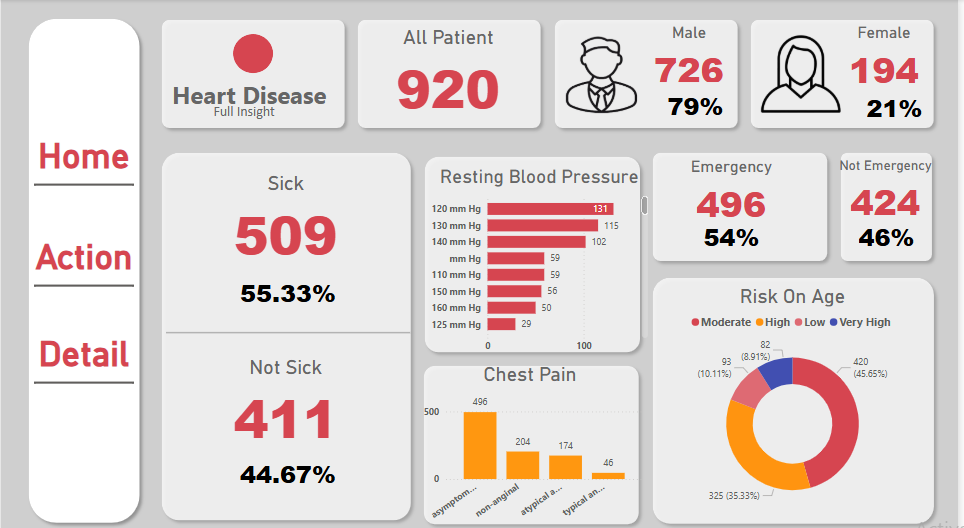

The dashboard page shown, as its layout file describes it:
{"tool":"powerbi","page":{"name":"Home","canvas":[1280,720],"ordinal":0},"visuals":[{"type":"shape","box":[27.7,18,166.2,692.6],"z":0},{"type":"shape","box":[205.7,18.6,262.9,162.9],"z":1000},{"type":"shape","box":[468.6,18.6,262.9,162.9],"z":2000},{"type":"shape","box":[731.4,18.6,262.9,162.9],"z":3000},{"type":"shape","box":[994.3,18.6,262.9,162.9],"z":4000},{"type":"shape","box":[205.7,197.1,351.4,510],"z":5000},{"type":"shape","box":[558.3,202.3,306.1,279.8],"z":6000},{"type":"shape","box":[557.1,481.4,305.7,230],"z":7000},{"type":"shape","box":[862.9,197.1,251.4,162.9],"z":8000},{"type":"shape","box":[1114.3,197.1,140,162.9],"z":9000},{"type":"shape","box":[862.9,364.3,394.3,347.1],"z":10000},{"type":"textbox","box":[220,100,234.3,62.9],"z":11000},{"type":"textbox","box":[220,134.3,211.4,62.9],"z":12000},{"type":"shape","box":[310,47.5,53.8,52.5],"z":13000},{"type":"cardVisual","title":"All Patient","fields":{"Data":["measured Data.All Patient"]},"box":[494.3,35.2,209.8,131],"z":14000},{"type":"cardVisual","title":"Male","fields":{"Data":["measured Data.Male"]},"box":[863.2,32.4,115.5,84.5],"z":15000},{"type":"cardVisual","fields":{"Data":["measured Data.% male"]},"box":[871.3,113.6,116.4,62.3],"z":16000},{"type":"cardVisual","title":"Female","fields":{"Data":["measured Data.Female"]},"box":[1123.9,32.4,115.3,98.5],"z":17000},{"type":"cardVisual","fields":{"Data":["measured Data.% female"]},"box":[1137.3,116.4,116.4,62.3],"z":18000},{"type":"image","box":[731.4,34.6,139.9,134.4],"z":19000},{"type":"image","box":[994.6,23.5,152.4,152.4],"z":20000},{"type":"cardVisual","title":"Sick","fields":{"Data":["measured Data.Sick"]},"box":[236.9,230,288.1,130.2],"z":21000},{"type":"cardVisual","fields":{"Data":["measured Data.% Sick"]},"box":[297.8,364.3,171.8,62.3],"z":22000},{"type":"cardVisual","title":"Not Sick","fields":{"Data":["measured Data.Not Sick"]},"box":[236.9,476.5,288.1,130.2],"z":23000},{"type":"cardVisual","fields":{"Data":["measured Data.% Not Sick"]},"box":[297.8,606.8,171.8,62.3],"z":24000},{"type":"shape","box":[220.3,441.9,326.9,9.7],"z":25000},{"type":"columnChart","title":"Chest Pain ","fields":{"Category":["heart_disease_uci.cp"],"Y":["measured Data.All Patient"]},"box":[551.3,486.2,313.1,221.6],"z":26000},{"type":"barChart","title":"Resting Blood Pressure","fields":{"Category":["heart_disease_uci.Resting Blood Pressure"],"Y":["measured Data.All Patient"]},"box":[570.7,221.6,300.6,260.4],"z":27000},{"type":"cardVisual","title":"Emergency","fields":{"Data":["measured Data.in danger"]},"box":[881,211.9,193.9,98.4],"z":28000},{"type":"cardVisual","fields":{"Data":["measured Data.% in danger"]},"box":[899,289.5,156.5,62.3],"z":29000},{"type":"cardVisual","title":"Not Emergency","fields":{"Data":["measured Data.Not in danger"]},"box":[1086.1,211.9,193.9,98.4],"z":30000},{"type":"cardVisual","fields":{"Data":["measured Data.% not in danger"]},"box":[1130.4,289.5,108.1,62.3],"z":31000},{"type":"donutChart","title":" Risk On Age","fields":{"Category":["heart_disease_uci.Risk On Age"],"Y":["measured Data.All Patient"]},"box":[882.4,381,354.6,313.1],"z":32000},{"type":"actionButton","title":"Home","box":[44.2,182,133.8,68.3],"z":32001},{"type":"actionButton","title":"Action","box":[44.2,317.2,133.8,68.3],"z":32002},{"type":"actionButton","title":"Detail","box":[44.2,447,133.8,68.3],"z":32003}]}

Visuals, with their boxes in screenshot pixels (x1, y1, x2, y2), scaled from the page's 1280x720 canvas onto the 964x528 screenshot:
shape: bbox(21, 13, 146, 521)
shape: bbox(155, 14, 353, 133)
shape: bbox(353, 14, 551, 133)
shape: bbox(551, 14, 749, 133)
shape: bbox(749, 14, 947, 133)
shape: bbox(155, 145, 420, 519)
shape: bbox(420, 148, 651, 354)
shape: bbox(420, 353, 650, 522)
shape: bbox(650, 145, 839, 264)
shape: bbox(839, 145, 945, 264)
shape: bbox(650, 267, 947, 522)
textbox: bbox(166, 73, 342, 119)
textbox: bbox(166, 98, 325, 145)
shape: bbox(233, 35, 274, 73)
"All Patient" cardVisual: bbox(372, 26, 530, 122)
"Male" cardVisual: bbox(650, 24, 737, 86)
cardVisual - measured Data.% male: bbox(656, 83, 744, 129)
"Female" cardVisual: bbox(846, 24, 933, 96)
cardVisual - measured Data.% female: bbox(857, 85, 944, 131)
image: bbox(551, 25, 656, 124)
image: bbox(749, 17, 864, 129)
"Sick" cardVisual: bbox(178, 169, 395, 264)
cardVisual - measured Data.% Sick: bbox(224, 267, 354, 313)
"Not Sick" cardVisual: bbox(178, 349, 395, 445)
cardVisual - measured Data.% Not Sick: bbox(224, 445, 354, 491)
shape: bbox(166, 324, 412, 331)
"Chest Pain " columnChart: bbox(415, 357, 651, 519)
"Resting Blood Pressure" barChart: bbox(430, 163, 656, 353)
"Emergency" cardVisual: bbox(664, 155, 810, 228)
cardVisual - measured Data.% in danger: bbox(677, 212, 795, 258)
"Not Emergency" cardVisual: bbox(818, 155, 963, 228)
cardVisual - measured Data.% not in danger: bbox(851, 212, 933, 258)
" Risk On Age" donutChart: bbox(665, 279, 932, 509)
"Home" actionButton: bbox(33, 133, 134, 184)
"Action" actionButton: bbox(33, 233, 134, 283)
"Detail" actionButton: bbox(33, 328, 134, 378)
